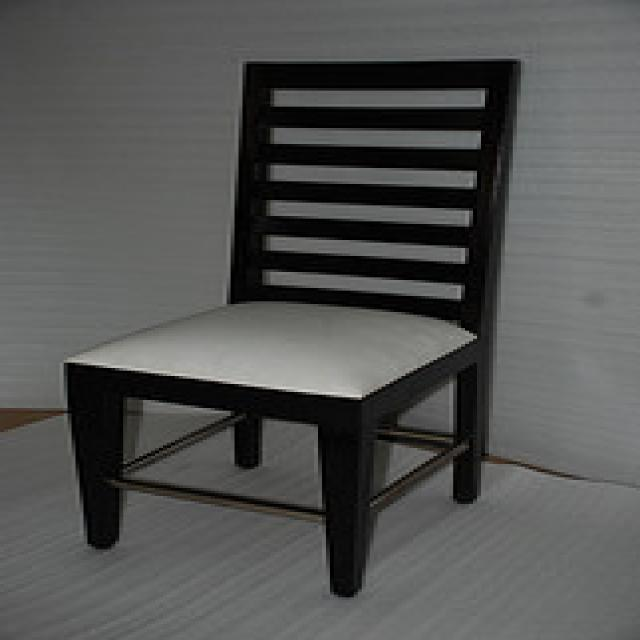chair: (59, 56, 520, 597)
